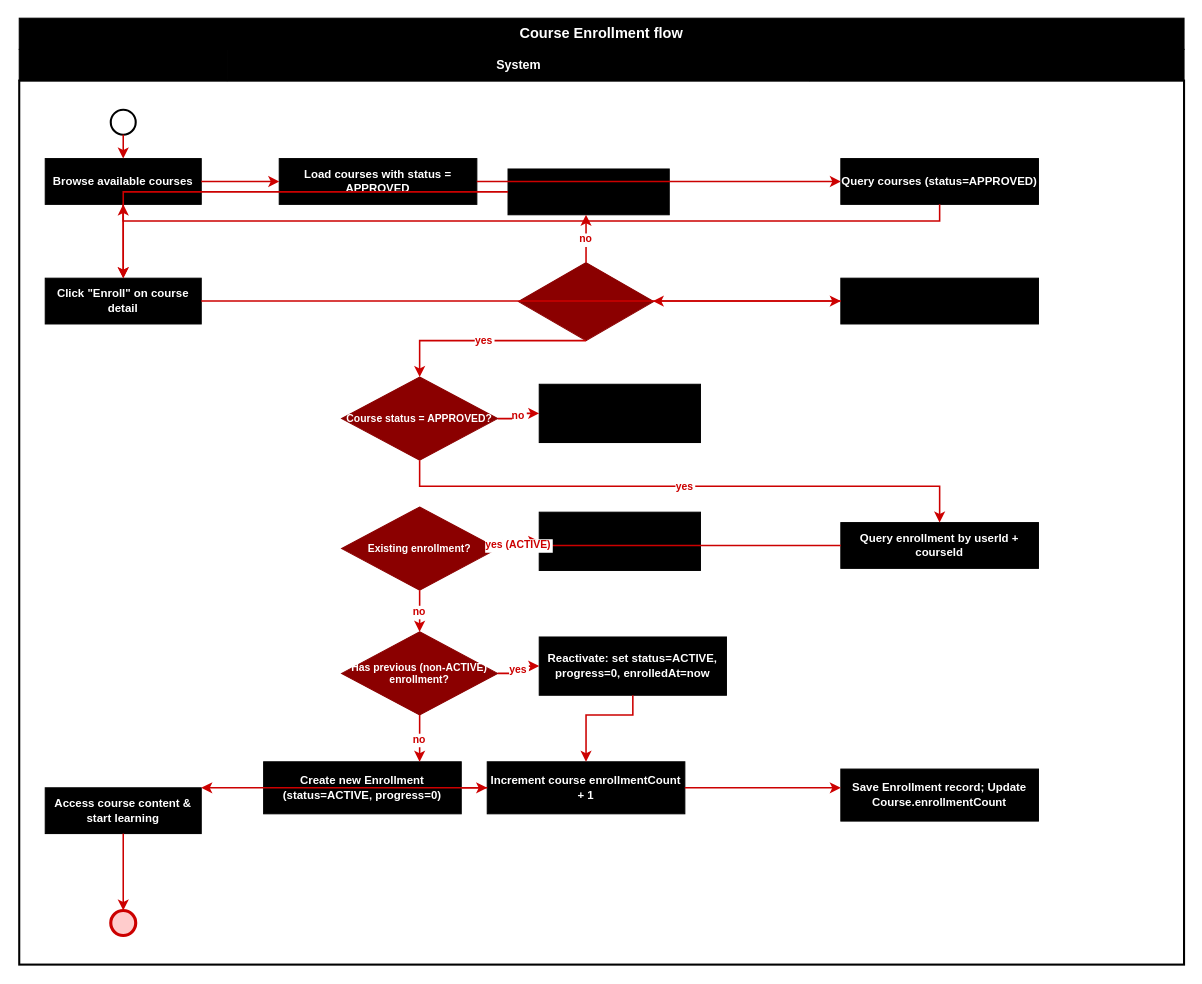
The diagram is 1202 pixels wide and 984 high, and some of its shapes have lost their labels. The centre of each missing label's shape, as x and y in pixels:
Course exists?: (x=585, y=301)
Database: (x=996, y=64)
Learner: (x=122, y=64)
Query course by courseId: (x=939, y=300)
Throw exception "Already enrolled in this course": (x=619, y=540)
Throw exception "Course not available for enrollment": (x=619, y=413)
Throw exception "Course not found": (x=588, y=191)
